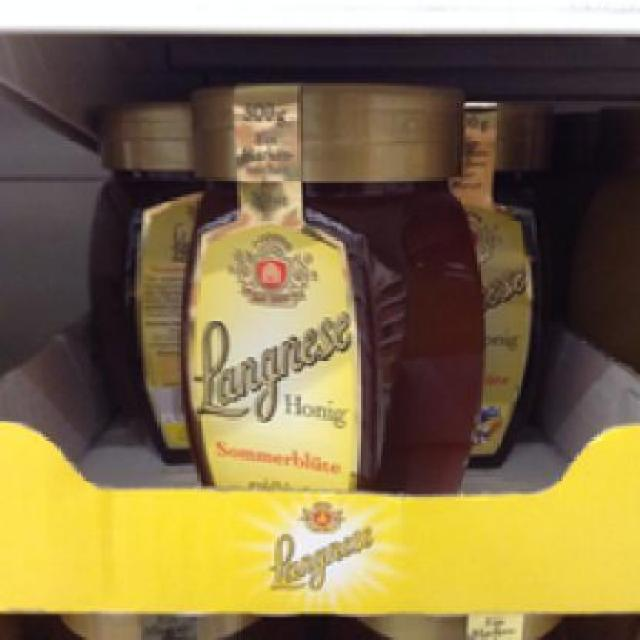Honey: (180, 80, 486, 494)
